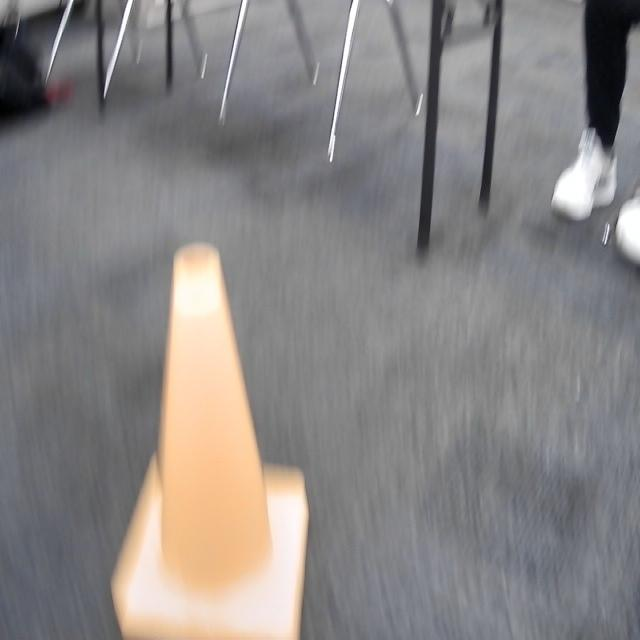cone: (107, 239, 310, 640)
